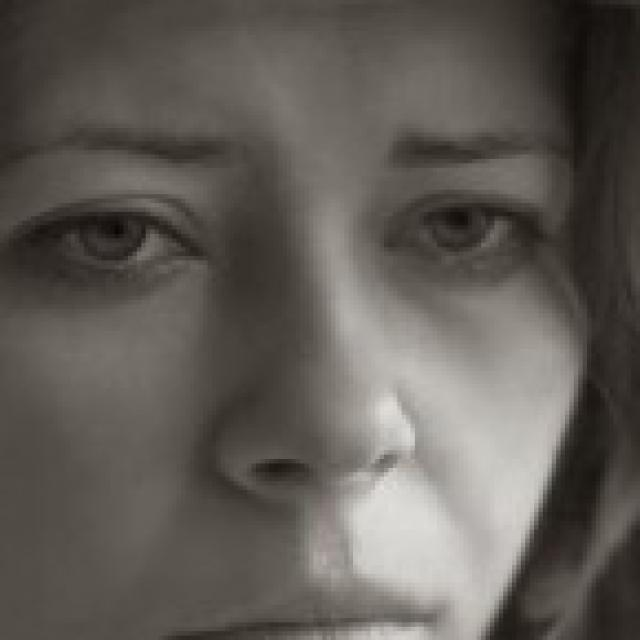Depress: (2, 7, 592, 636)
